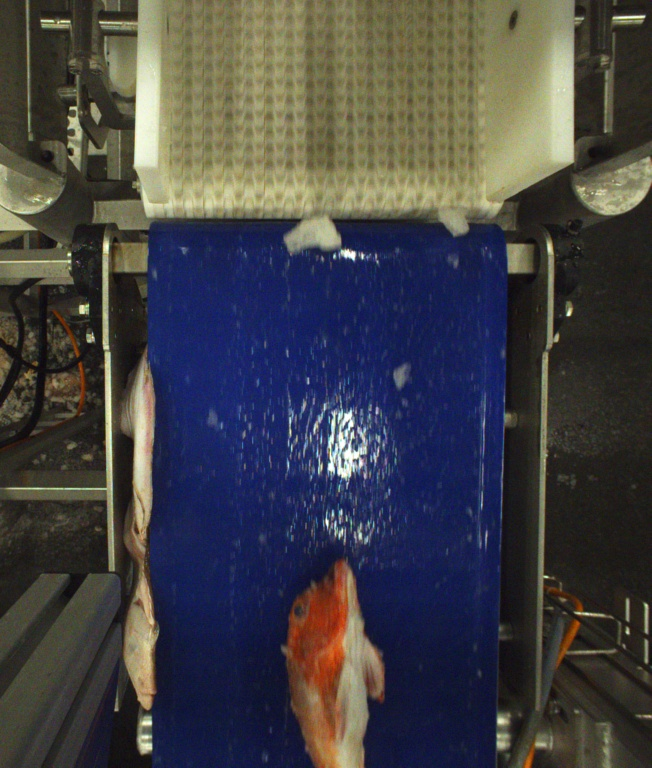GUU: (284, 558, 389, 768)
